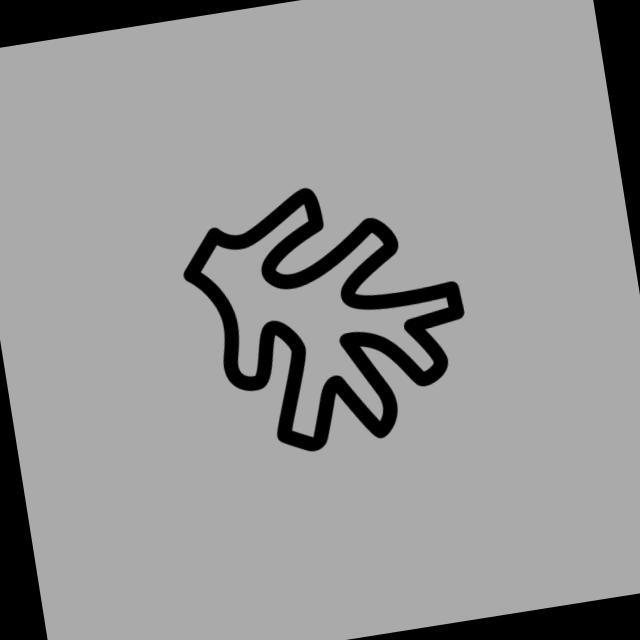coral: (166, 158, 490, 475)
